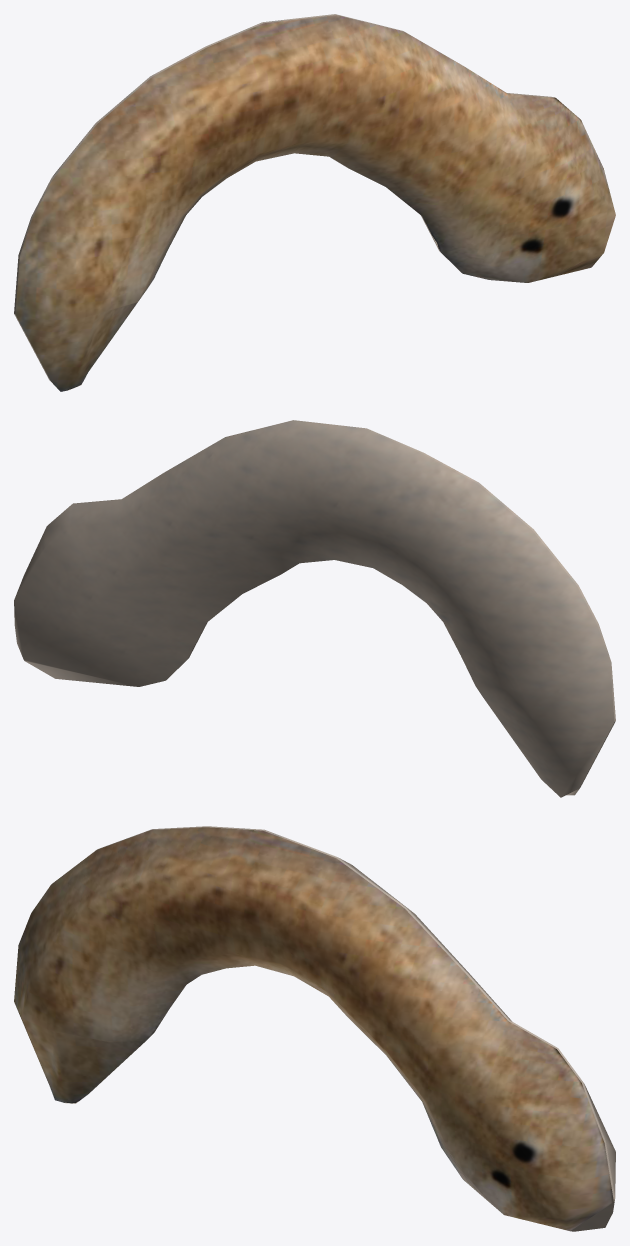
Rendered from Planaria worm.fbx.
3 renders of one model, top to bottom at view 1: azimuth 30°, elevation 25°; view 2: azimuth 150°, elevation 25°; view 3: azimuth 330°, elevation 25°, orthographic.
Visible parts, largest first — view 1: Planaria_worm; view 2: Planaria_worm; view 3: Planaria_worm.
Boxes of the visible parts, left/top/right/bottom form: Planaria_worm: left=14, top=14, right=615, bottom=391; Planaria_worm: left=14, top=420, right=615, bottom=797; Planaria_worm: left=14, top=826, right=615, bottom=1231.
Size of the model in its own units: 26.16 by 13.56 by 3.13.
Materials: 1 (1 with a texture image).
